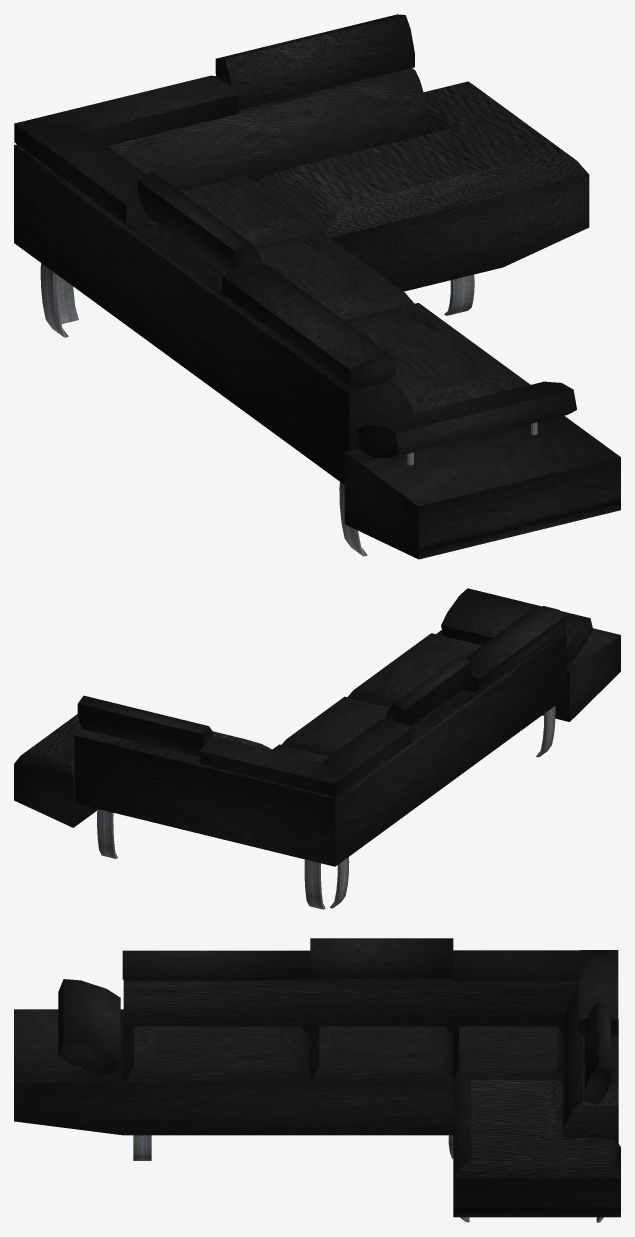
Rendered from SectionalCouch.fbx.
3 views of the same model, one above another, from view 1: azimuth 30°, elevation 25°; view 2: azimuth 150°, elevation 25°; view 3: azimuth 270°, elevation 25° (orthographic). The views are drawn at different scales.
Visible parts, largest first — view 1: CouchBase, HeadRest07, HeadRest010, HeadRest08, HeadRest01, HeadRest09, CouchLeg012, CouchLeg09, CouchLeg010; view 2: CouchBase, HeadRest07, HeadRest010, HeadRest01, HeadRest08, HeadRest09, CouchLeg010, CouchLeg011, CouchLeg012, CouchLeg013; view 3: CouchBase, HeadRest07, HeadRest09, HeadRest08, HeadRest01, HeadRest010, CouchLeg08.
Boxes of the visible parts, x1,y1,x2,y2 form: CouchBase: (14,68,620,559); HeadRest07: (14,75,237,224); HeadRest010: (215,14,414,110); HeadRest08: (222,264,395,387); HeadRest01: (357,381,576,458); HeadRest09: (137,171,263,273); CouchLeg012: (40,263,68,337); CouchLeg09: (444,274,474,315); CouchLeg010: (57,275,78,323); CouchBase: (14,628,620,866); HeadRest07: (200,719,412,796); HeadRest010: (77,695,213,757); HeadRest01: (441,588,592,664); HeadRest08: (461,606,566,691); HeadRest09: (384,655,470,726); CouchLeg010: (304,859,325,909); CouchLeg011: (97,809,117,858); CouchLeg012: (330,857,349,908); CouchLeg013: (536,706,555,757); CouchBase: (14,978,620,1217); HeadRest07: (453,950,618,1036); HeadRest09: (310,938,453,978); HeadRest08: (122,950,310,979); HeadRest01: (58,979,120,1074); HeadRest010: (584,1002,610,1104); CouchLeg08: (133,1135,151,1160).
Size of the model in its own units: 6.57 by 3.03 by 10.
